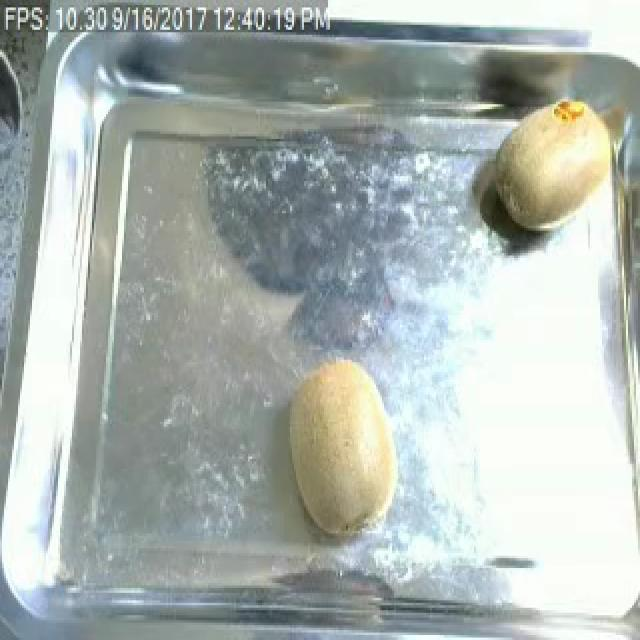Fruit: (272, 350, 406, 541), (482, 94, 630, 243)
